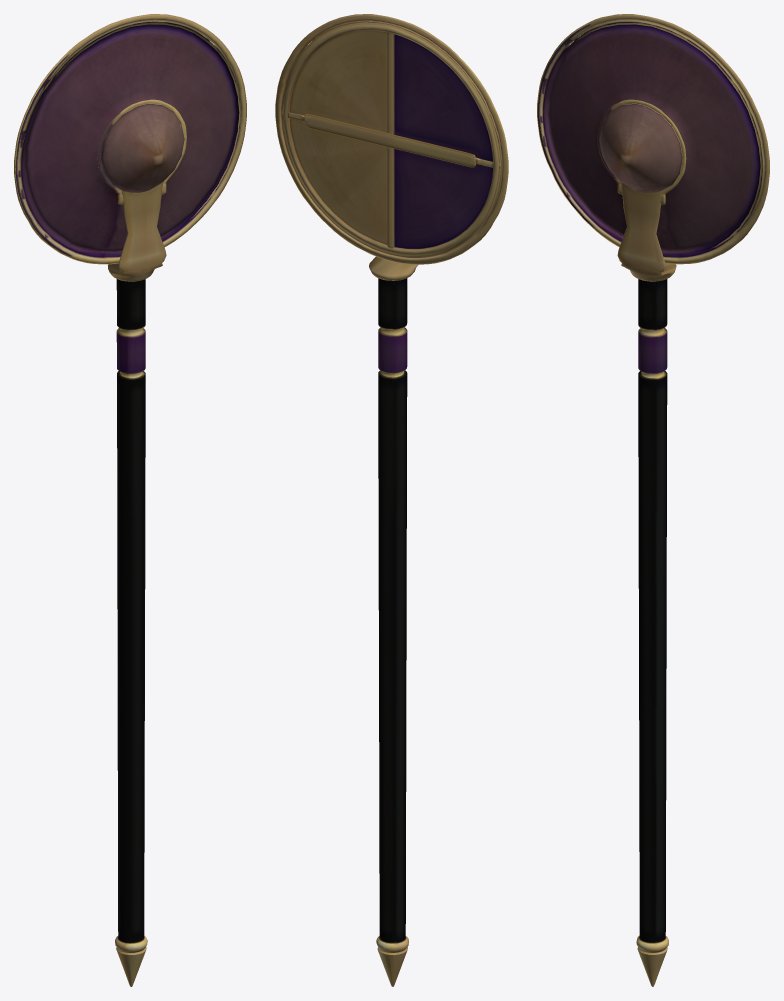
The model's file is sigillo_aethon.glb.
The picture shows the model from 3 angles, left to right: view 1: azimuth 30°, elevation 25°; view 2: azimuth 150°, elevation 25°; view 3: azimuth 330°, elevation 25°; orthographic projection.
Parts seen in each view (by area): view 1: sigillo_aethon; view 2: sigillo_aethon; view 3: sigillo_aethon.
Part boxes in pixels (<box>): sigillo_aethon: <box>14,14,246,986</box>; sigillo_aethon: <box>275,14,508,986</box>; sigillo_aethon: <box>537,14,769,986</box>.
Size of the model in its own units: 0.1006 by 0.4 by 0.0307.
Materials: 1 (1 with a texture image).
